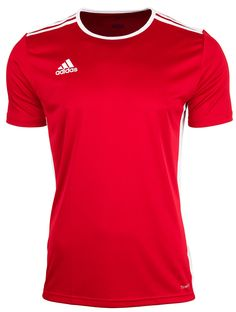adidas Originale: (51, 54, 82, 78)
